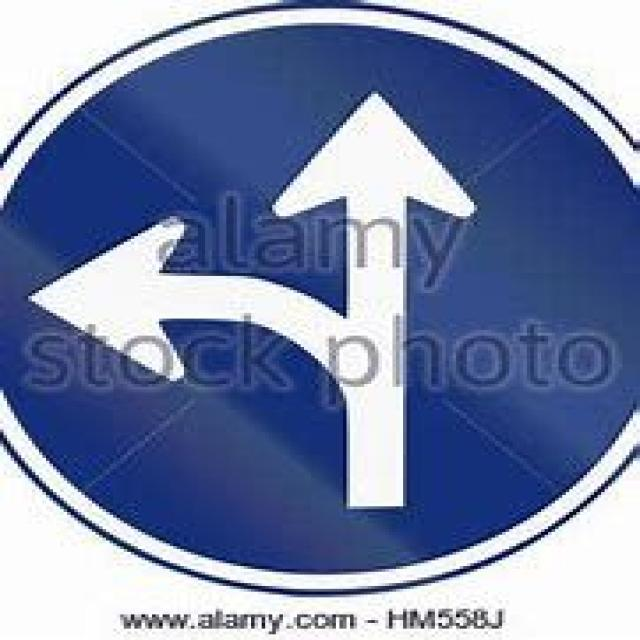COMPULSARY_AHEAD_OR_TURN_LEFT: (0, 2, 640, 596)
